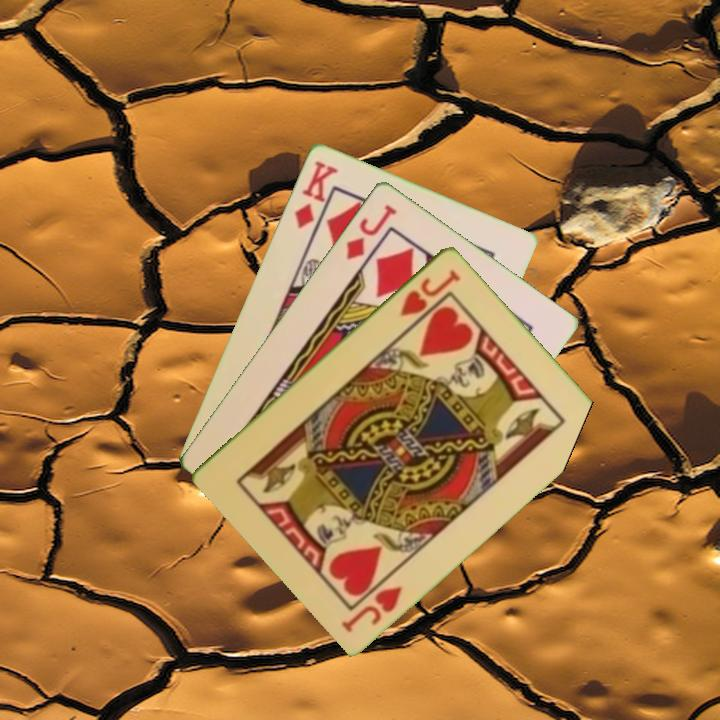Jd: (342, 200, 400, 263)
Jh: (397, 265, 464, 319), (338, 582, 406, 635)
Kd: (290, 156, 341, 231)
